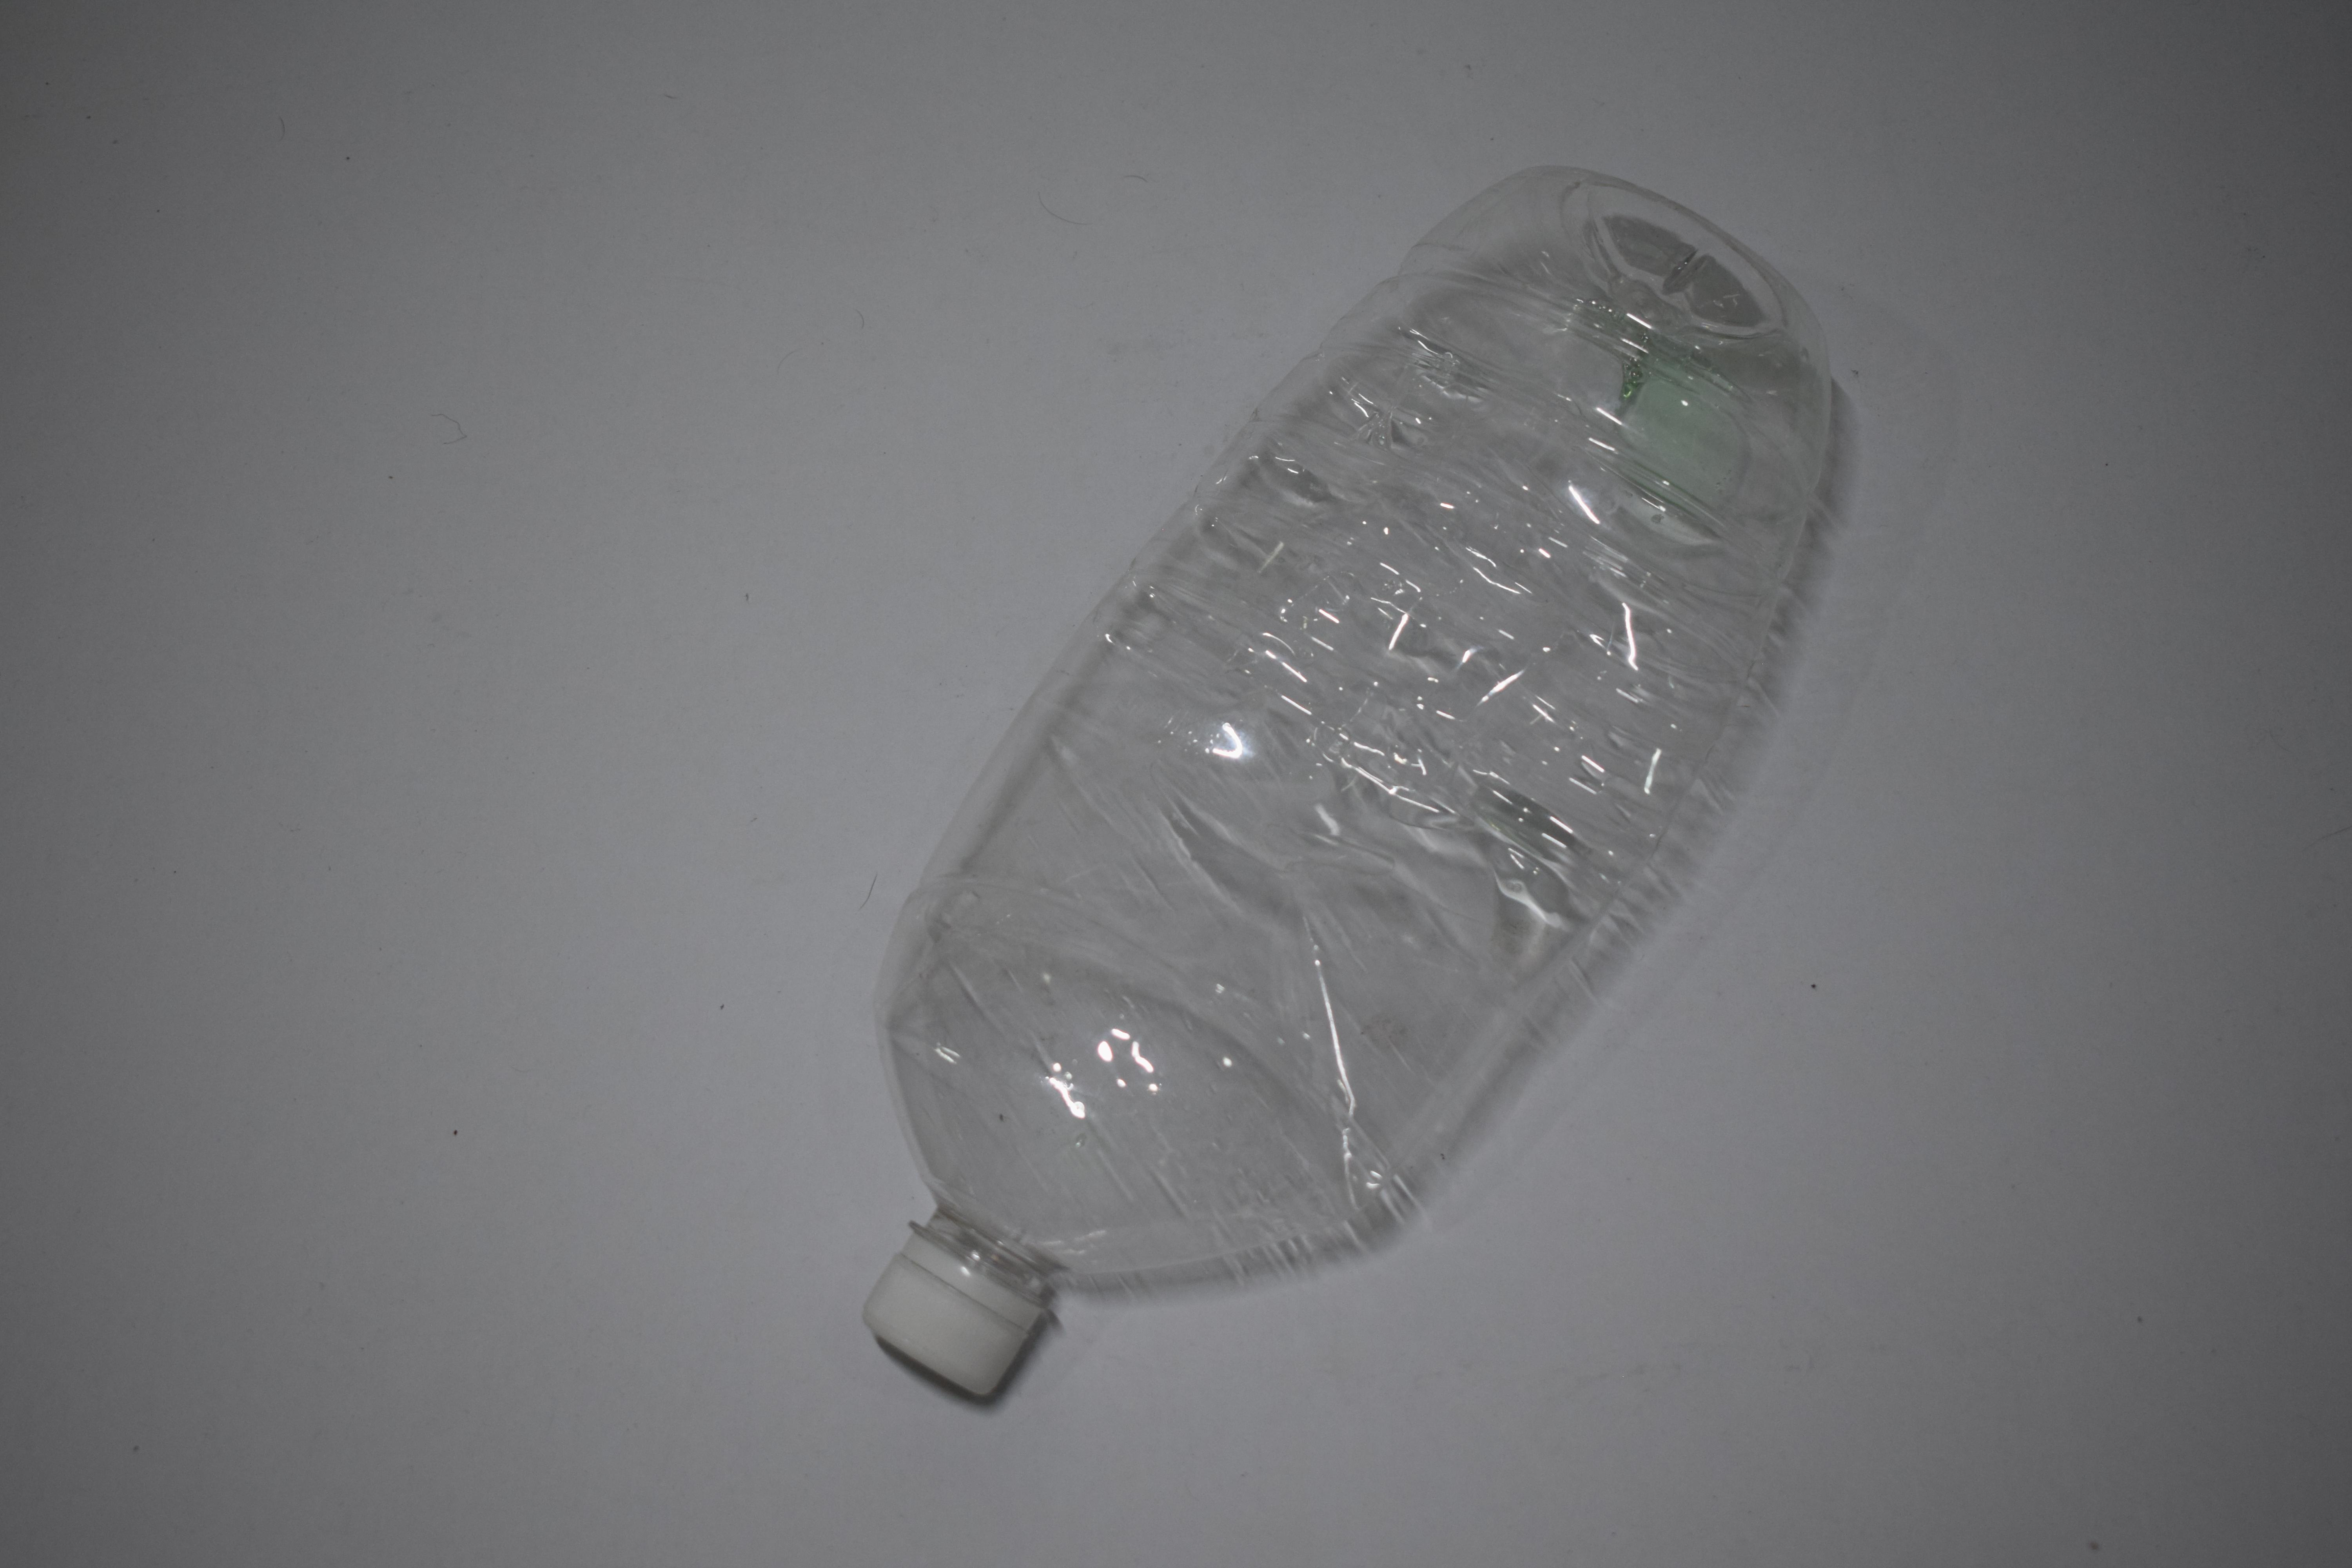bottle: (0, 0, 654, 626)
